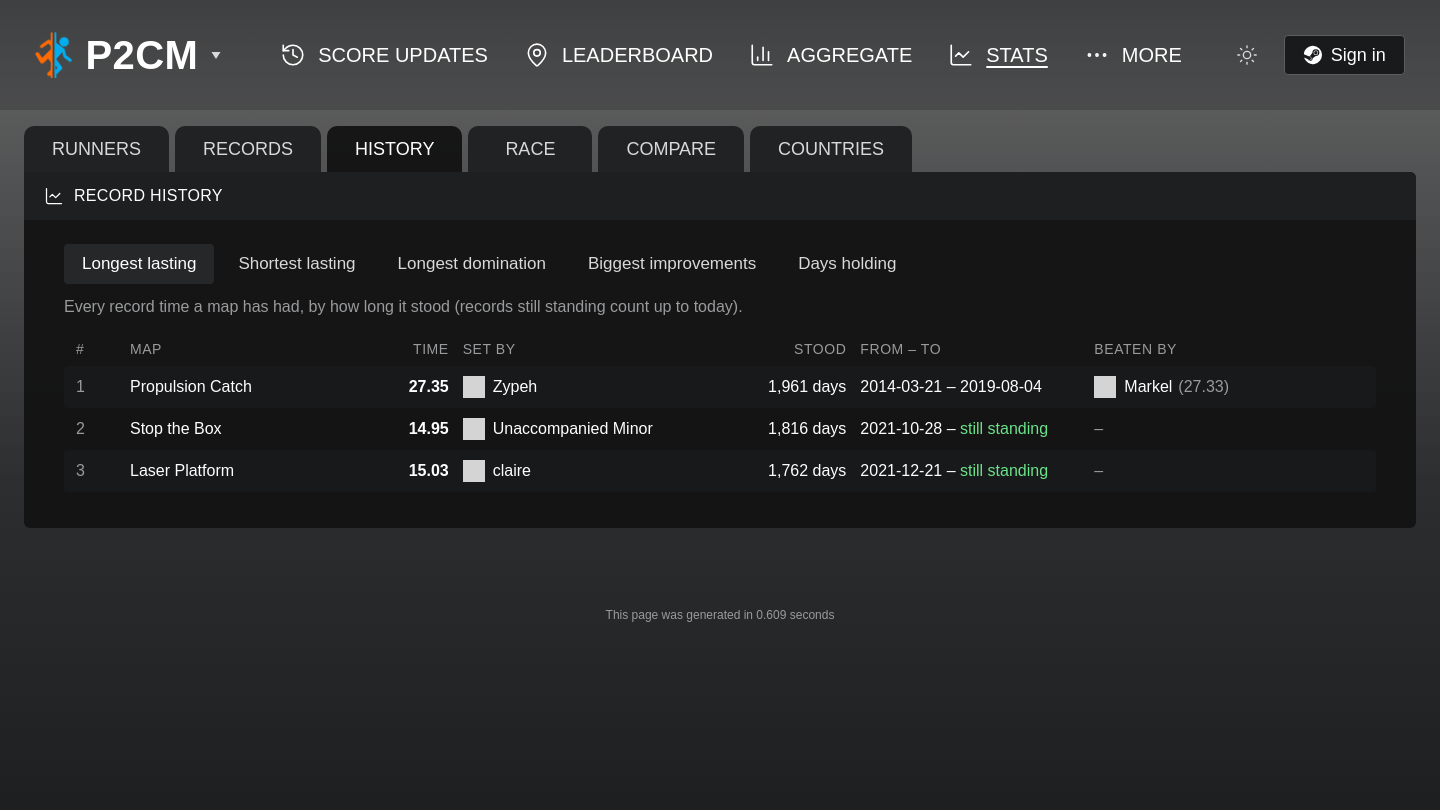
Test case: Stats: History › lists the records beaten soonest, timed to the second or minute
The image size is (1440, 810).
Click the radio button labelled "Shortest lasting". click: (297, 264)
box: [220, 244, 374, 284]
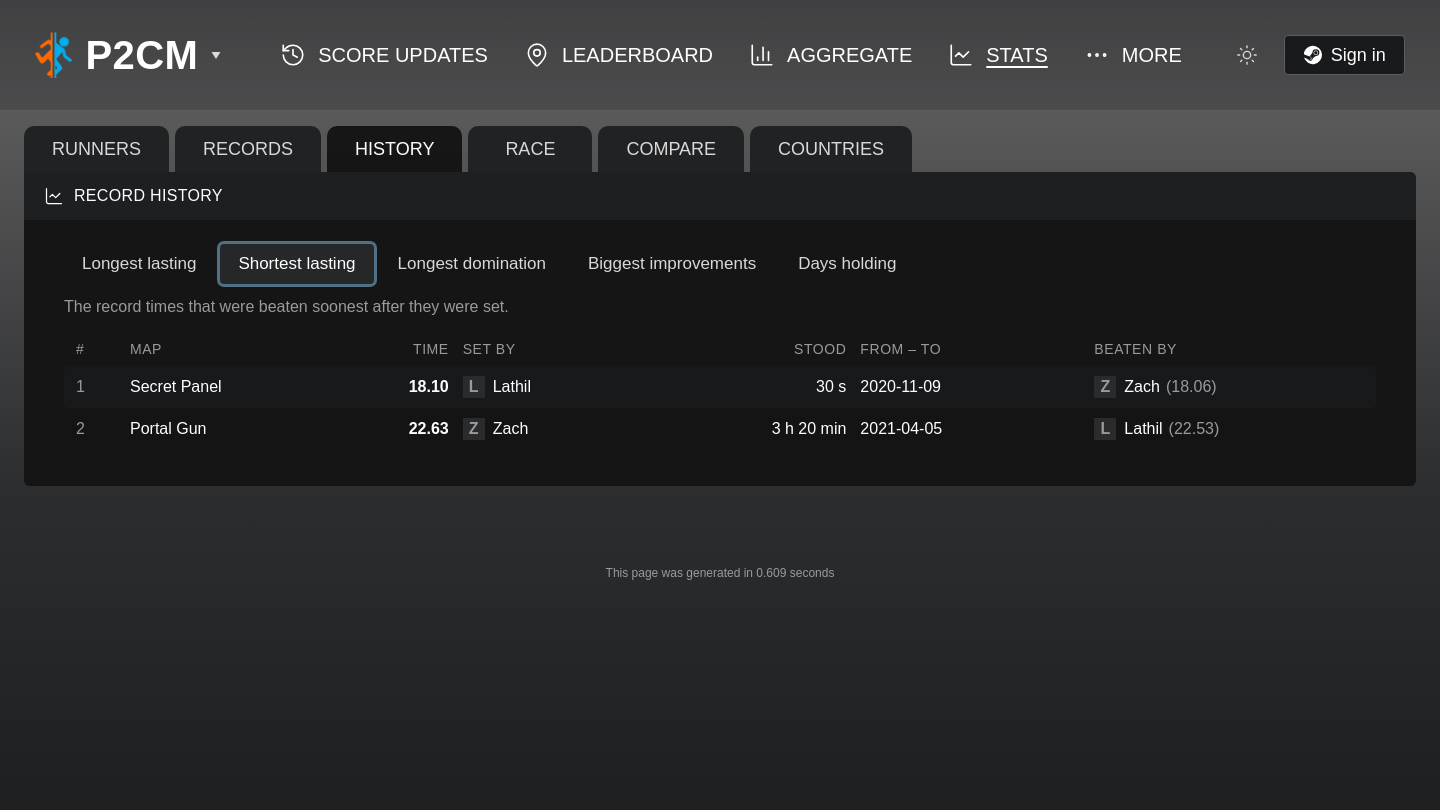
Result: the link "Secret Panel" is shown at [130, 378, 222, 395]
Result: the row "1 Secret Panel 18.10 L Lathil 30 s 2020-11-09 Z Zach (18.06)" is shown at [64, 366, 1376, 408]
Result: the row that starts with "Portal Gun" shows "3 h 20 min" at [772, 420, 846, 437]
